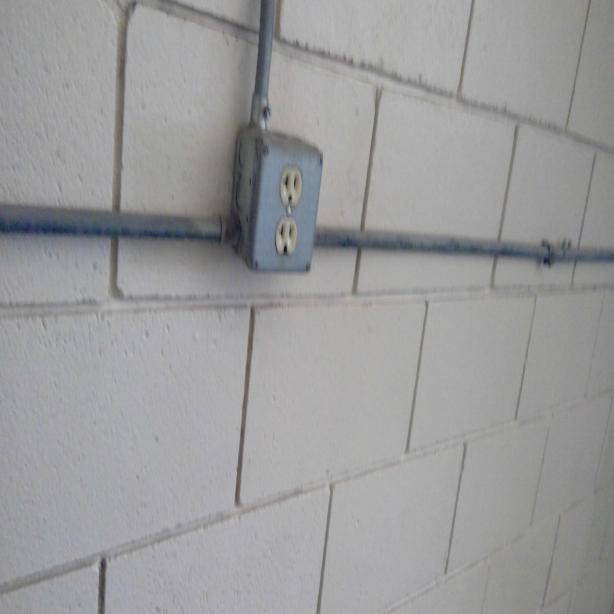typeb: (276, 218, 296, 258), (280, 170, 301, 208)
